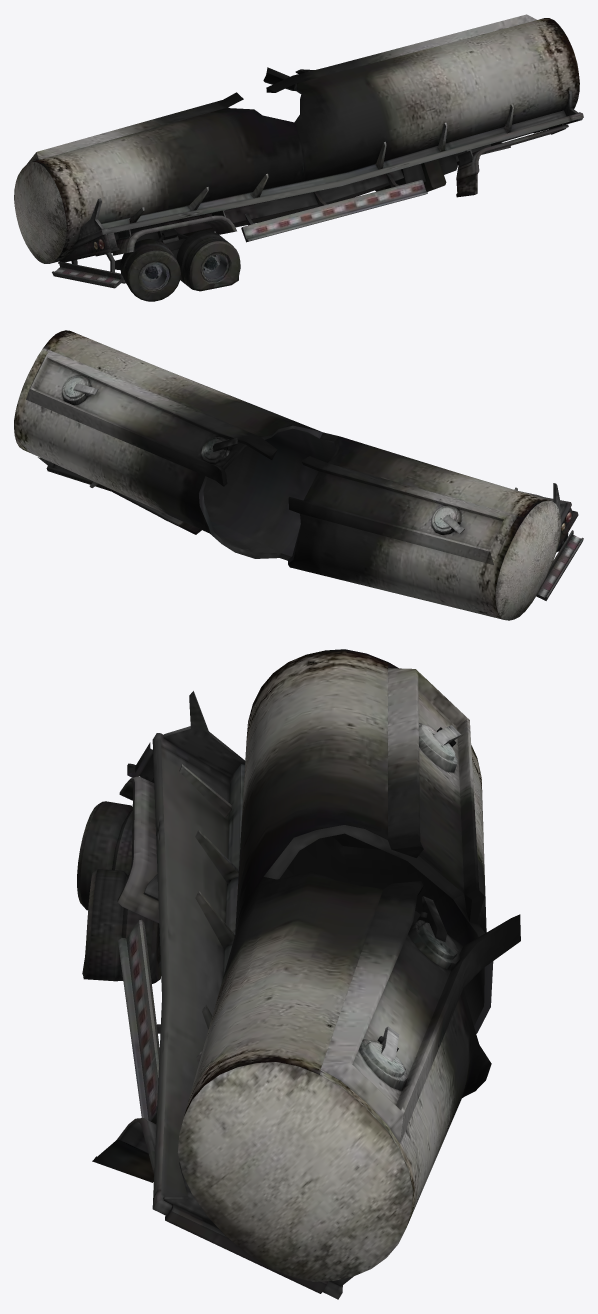
File: tanker001a.glb
The picture shows the model from 3 angles, top to bottom: view 1: azimuth 30°, elevation 25°; view 2: azimuth 150°, elevation 25°; view 3: azimuth 270°, elevation 25°; orthographic projection. The views are drawn at different scales.
Visible parts, largest first — view 1: 0_tanker001a_01; view 2: 0_tanker001a_01; view 3: 0_tanker001a_01.
Boxes of the visible parts, box(x1,y1,x2,y2) form: 0_tanker001a_01: box(14, 14, 583, 301); 0_tanker001a_01: box(14, 330, 583, 620); 0_tanker001a_01: box(77, 649, 520, 1299).
Size of the model in its own units: 13.57 by 3.65 by 5.04.
Materials: 1 (1 with a texture image).
